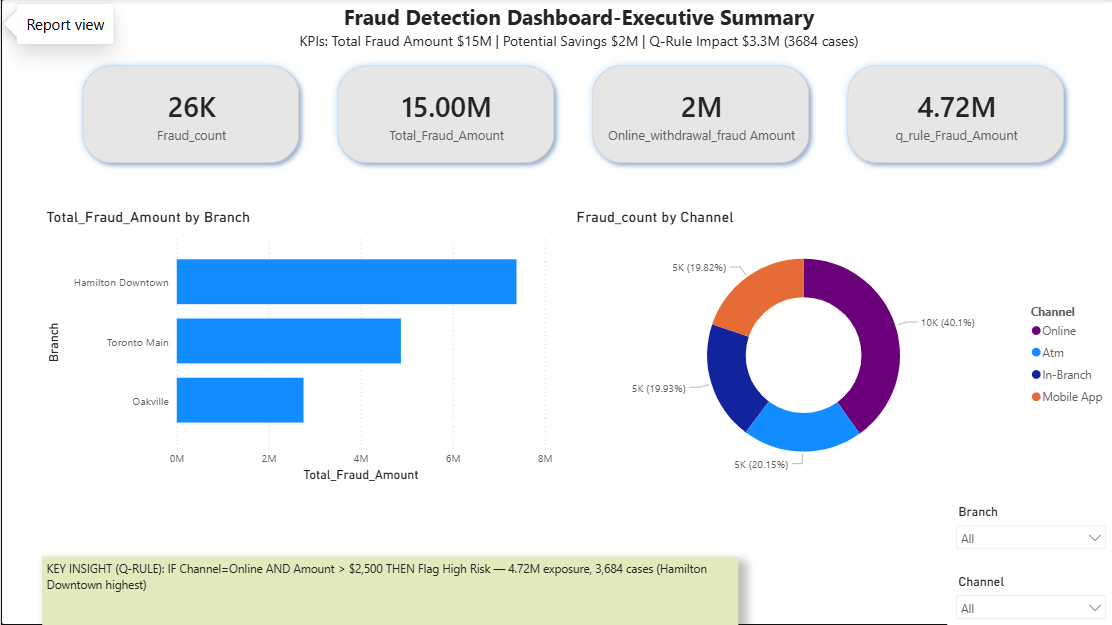

This screenshot's page, from the dashboard's own definition file:
{"tool":"powerbi","page":{"name":"Executive Summary","canvas":[1280,720],"ordinal":0},"visuals":[{"type":"cardVisual","fields":{"Data":["_.Fraud_count"]},"box":[16,48,298,158],"z":0},{"type":"cardVisual","fields":{"Data":["_.Total_Fraud_Amount"]},"box":[336,48,298,158],"z":1000},{"type":"cardVisual","fields":{"Data":["_.Q-Rule Impact"]},"box":[992,48,298,158],"z":2000},{"type":"cardVisual","fields":{"Data":["_.Online_withdrawal_fraud"]},"box":[656,48,304,160],"z":3000},{"type":"clusteredBarChart","title":"Total Fraud Amount by Branch","fields":{"Category":["risk_view.Branch"],"Y":["_.Total_Fraud_Amount"]},"box":[16,240,624,336],"z":4000},{"type":"donutChart","fields":{"Category":["risk_view.Channel"],"Y":["_.Fraud_count"]},"box":[656,240,624,336],"z":5000},{"type":"slicer","fields":{"Values":["risk_view.Branch"]},"box":[0,656,192,64],"z":6000},{"type":"slicer","fields":{"Values":["risk_view.Channel"]},"box":[1088,656,192,64],"z":7000},{"type":"textbox","box":[336,0,656,64],"z":8000},{"type":"textbox","box":[48,96,80,48],"z":9000},{"type":"textbox","box":[912,384,112,48],"z":10000},{"type":"textbox","box":[1024,96,64,48],"z":11000},{"type":"textbox","box":[688,96,80,48],"z":12000},{"type":"textbox","box":[384,96,64,48],"z":13000}]}

Visuals, with their boxes on the page's 1280x720 design canvas (x1, y1, x2, y2). These are canvas units, not pixel positions in the 1112x625 screenshot, which may show the page scaled, cropped or inside an application window:
cardVisual - _.Fraud_count: 16, 48, 314, 206
cardVisual - _.Total_Fraud_Amount: 336, 48, 634, 206
cardVisual - _.Q-Rule Impact: 992, 48, 1290, 206
cardVisual - _.Online_withdrawal_fraud: 656, 48, 960, 208
"Total Fraud Amount by Branch" clusteredBarChart: 16, 240, 640, 576
donutChart - risk_view.Channel x _.Fraud_count: 656, 240, 1280, 576
slicer - risk_view.Branch: 0, 656, 192, 720
slicer - risk_view.Channel: 1088, 656, 1280, 720
textbox: 336, 0, 992, 64
textbox: 48, 96, 128, 144
textbox: 912, 384, 1024, 432
textbox: 1024, 96, 1088, 144
textbox: 688, 96, 768, 144
textbox: 384, 96, 448, 144
